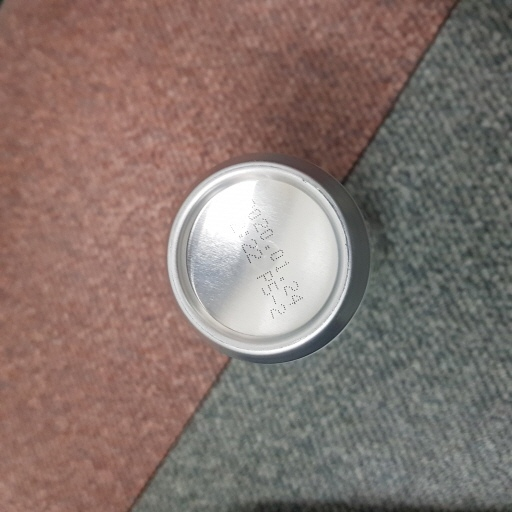Metal_0: (164, 152, 372, 370)
